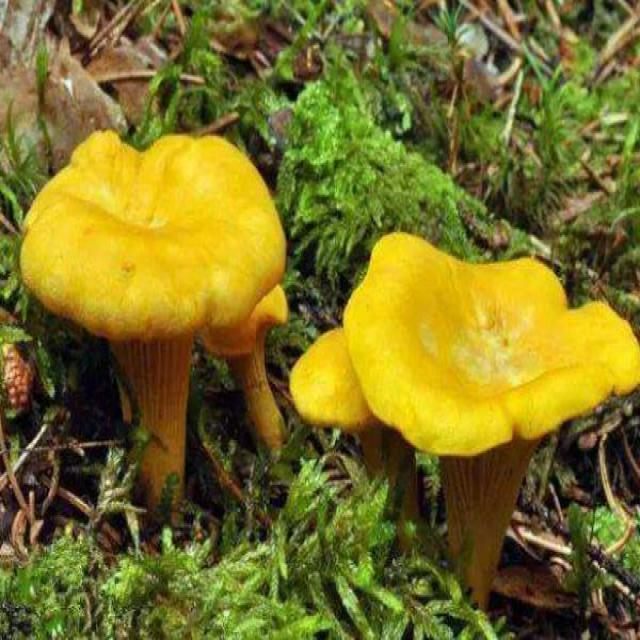Cantharellus cibarius: (291, 230, 640, 594), (19, 128, 286, 522)
